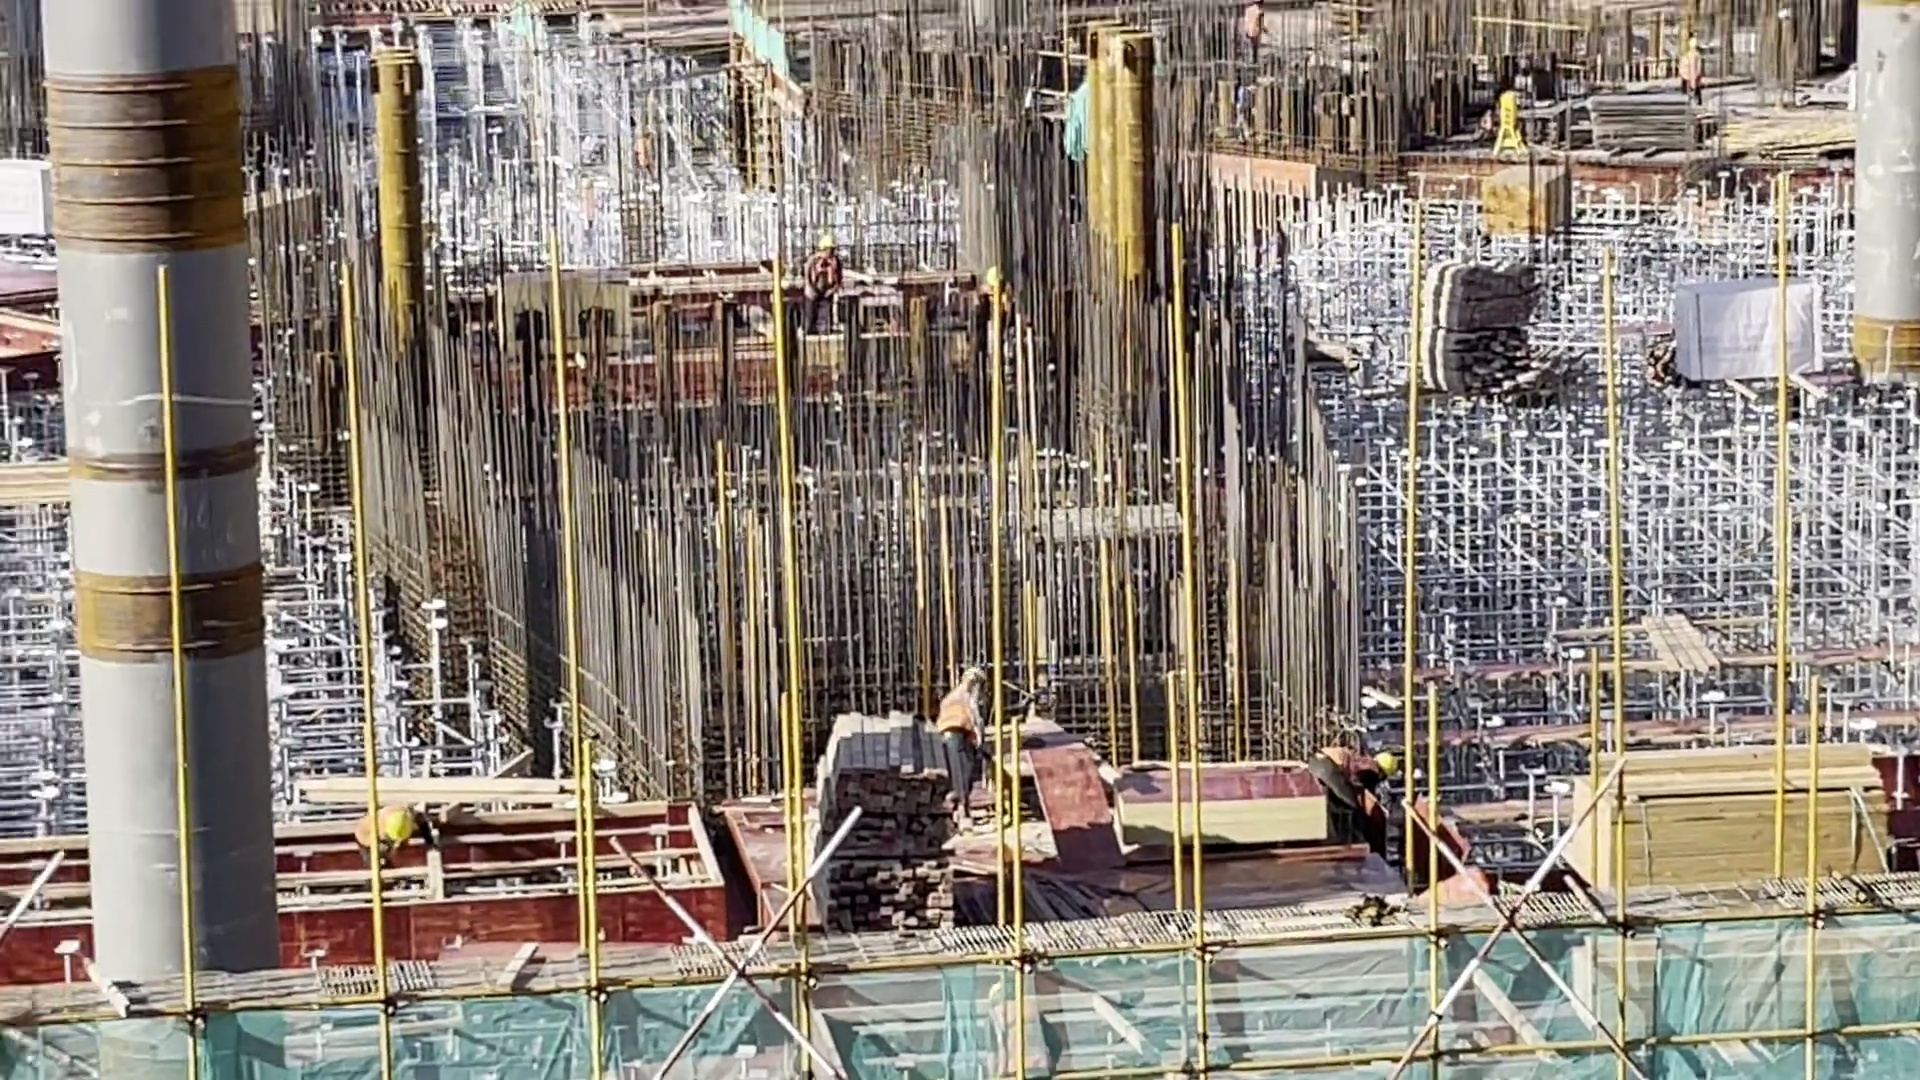board: (1121, 769, 1341, 853)
ebox: (1499, 93, 1525, 148)
helmet: (384, 811, 417, 842), (1376, 753, 1399, 772), (963, 665, 984, 681), (987, 270, 1004, 287), (819, 236, 836, 246), (1690, 39, 1699, 48)
person: (937, 665, 988, 856), (339, 803, 438, 896), (1303, 750, 1388, 844), (795, 238, 852, 336), (972, 271, 1023, 348), (1676, 37, 1710, 105), (1239, 1, 1269, 66)
vest: (1321, 744, 1375, 780), (350, 810, 392, 852), (939, 688, 975, 730), (805, 255, 841, 290), (1245, 8, 1267, 38), (1681, 54, 1703, 84)
wood: (1573, 755, 1920, 886), (1559, 936, 1920, 1021), (817, 709, 943, 853), (811, 863, 949, 936), (1420, 328, 1538, 394), (1428, 272, 1542, 329)
